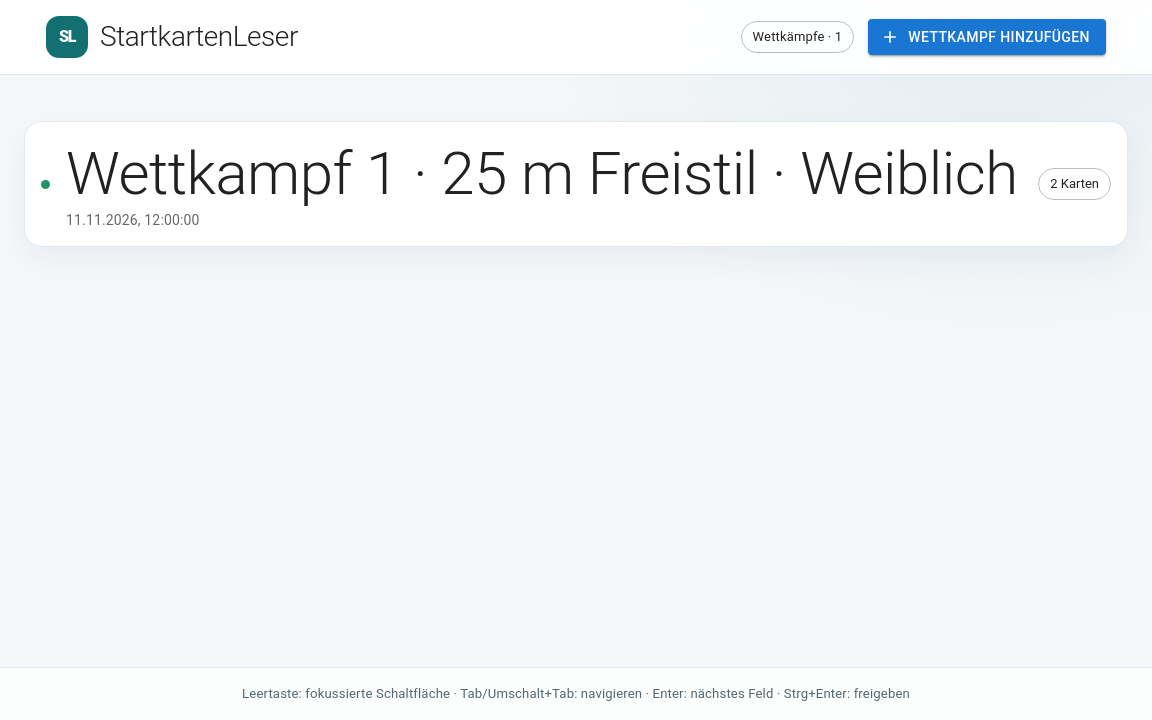
Scenario: shared page layout › creates a Wettkampf from the modal and opens its page
Click the button "Wettkampf hinzufügen": (987, 37) x1=868 y1=19 x2=1106 y2=55
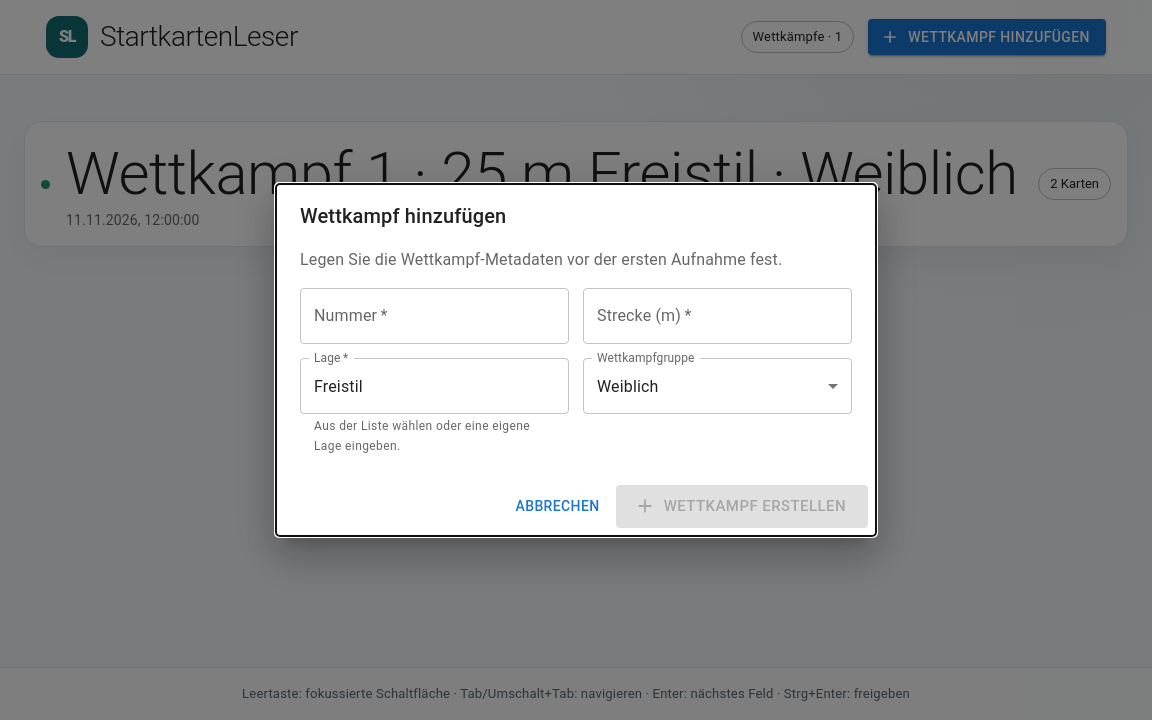
In the number field labelled "Nummer": (434, 316) x1=300 y1=288 x2=569 y2=344, type "1"
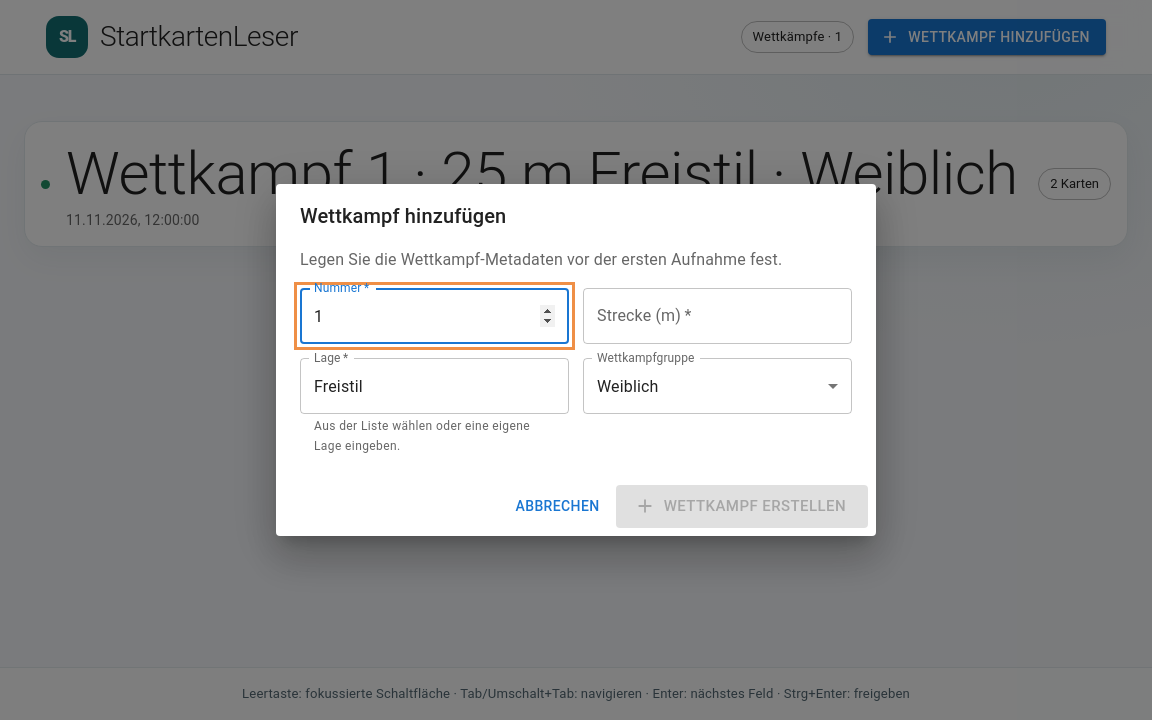
In the number field labelled "Strecke (m)": (718, 316) x1=583 y1=288 x2=852 y2=344, type "25"
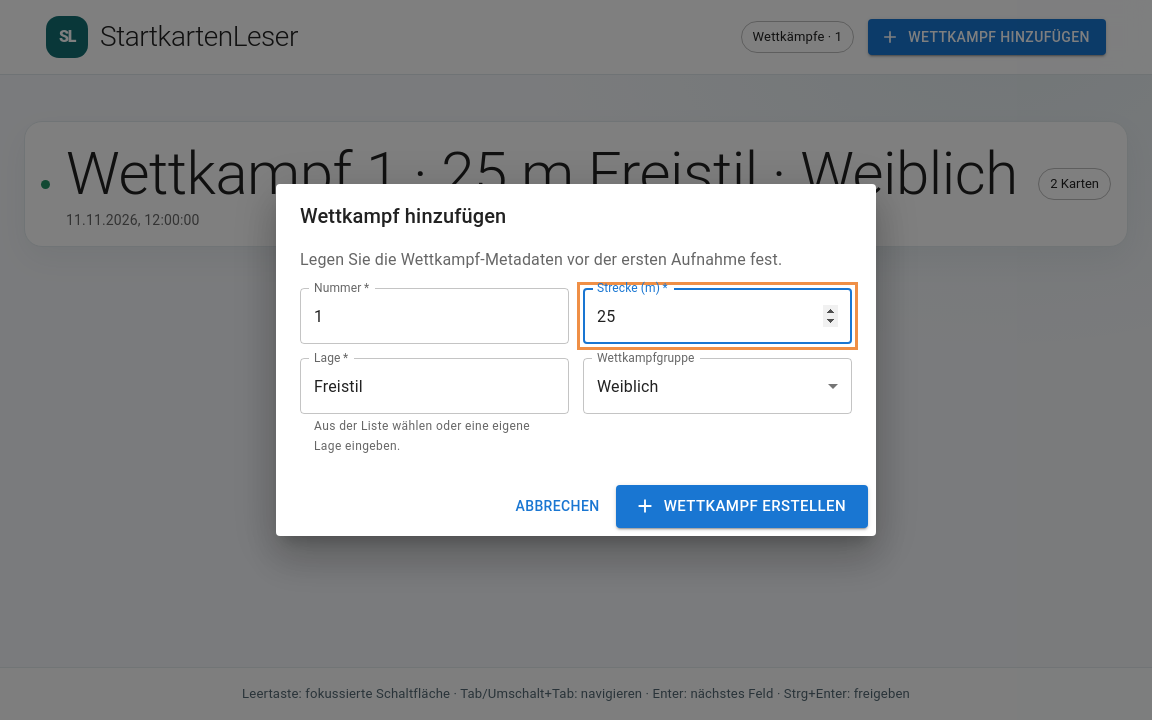
Click the button "Wettkampf erstellen": (742, 506) x1=616 y1=485 x2=868 y2=528
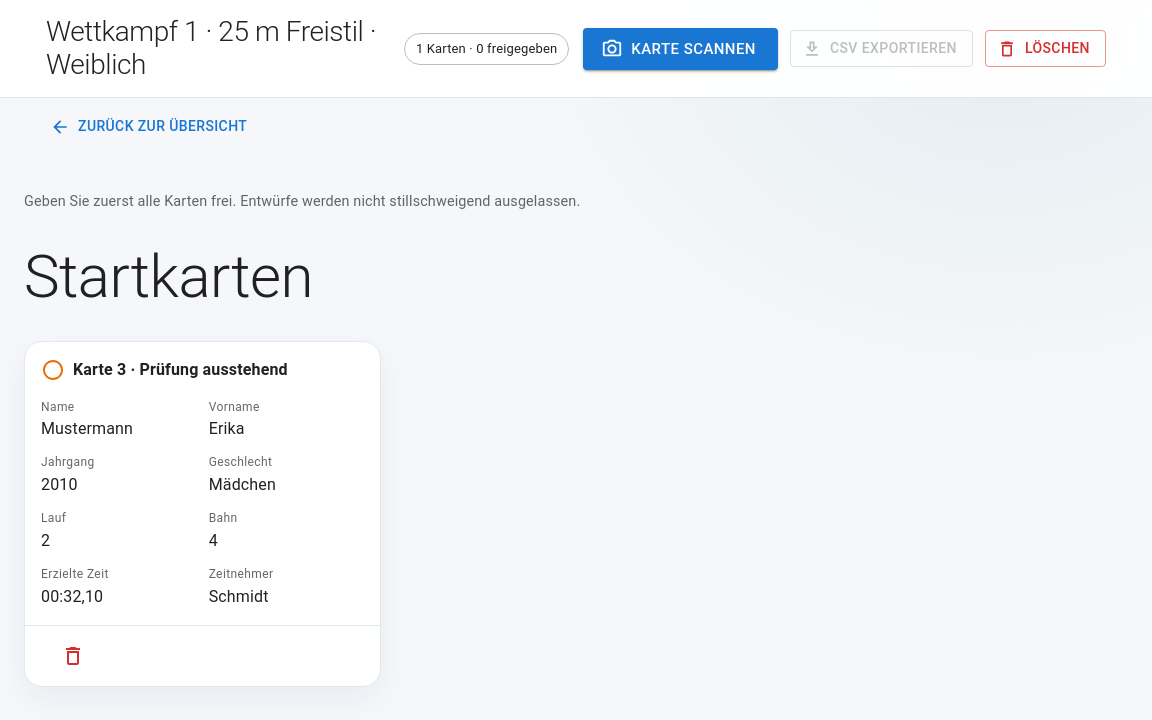
Expected: the heading "Wettkampf 1 · 25 m Freistil · Weiblich" is shown, x1=46 y1=16 x2=390 y2=81
Expected: the dialog is gone
Expected: the button "Karte scannen" is shown, x1=583 y1=28 x2=778 y2=70
Click the button "Zurück zur Übersicht": (151, 127) x1=46 y1=108 x2=255 y2=145
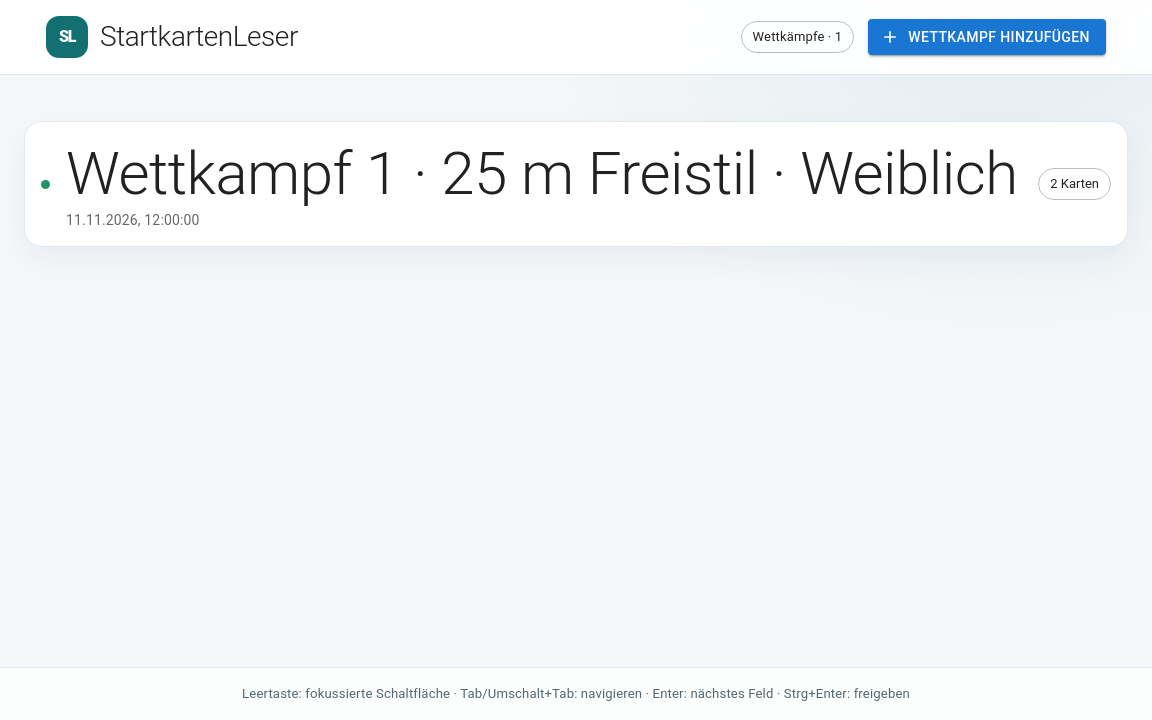
Expected: the text "2 Karten" is shown, x1=1050 y1=176 x2=1099 y2=191
